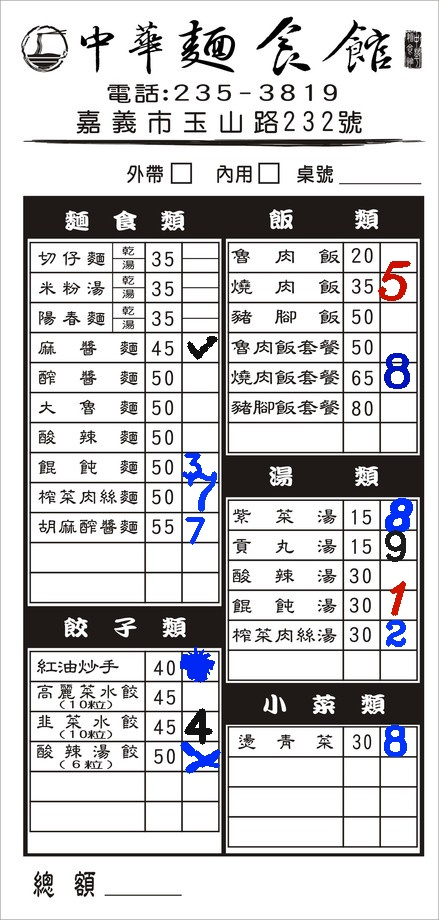marked_circle: (182, 651, 218, 680)
marked_number_1: (380, 589, 416, 618)
marked_number_2: (380, 619, 416, 648)
marked_number_3: (179, 453, 215, 482)
marked_number_4: (181, 711, 217, 740)
marked_number_5: (378, 271, 414, 300)
marked_number_7: (181, 512, 217, 541), (181, 483, 217, 512)
marked_number_8: (381, 360, 417, 389), (381, 500, 417, 529), (380, 726, 416, 755)
marked_number_9: (380, 531, 416, 560)
marked_tick: (182, 332, 218, 361)
marked_x: (182, 743, 218, 772)
